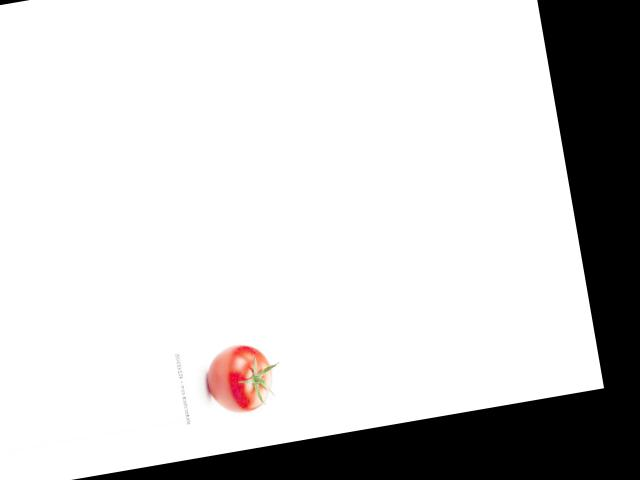tomato: (202, 340, 277, 416)
